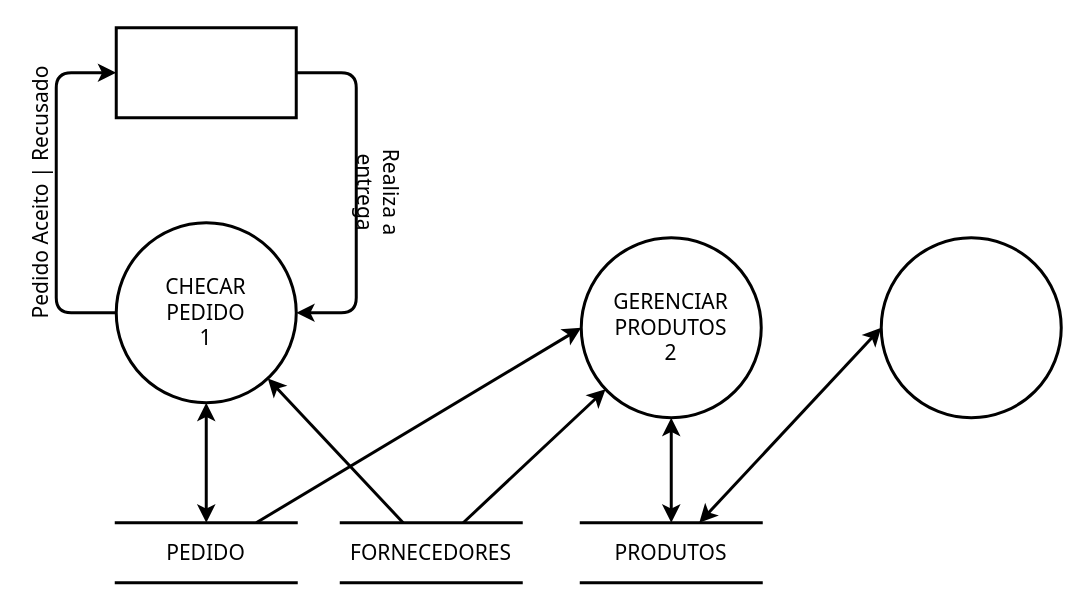
The diagram is 1088 pixels wide and 609 high, and some of its shapes have lost their labels. The shapes that lost their labels are listed below. From the top down, each one's centre as x and y in pixels, then its label:
At pixel 205 72: "FORNECEDOR".
At pixel 970 327: "DESCARTAR PRODUTOS 3".
